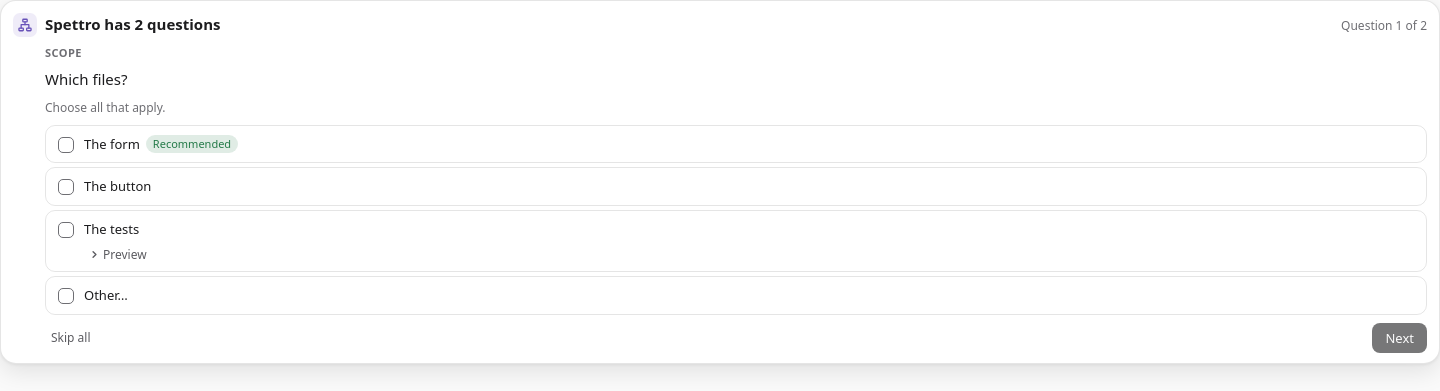
Test: the question card › shows one question at a time with a step indicator
Check: the text "Question 1 of 2" is shown, box [1341,16,1427,34]
Check: the text "Which files?" is shown, box [45,69,128,89]
What coordinates should you click on to do the following:
click the button with test id "question-submit"
I would click on:
 (1400, 338)
Its box is [1372,323,1427,353].
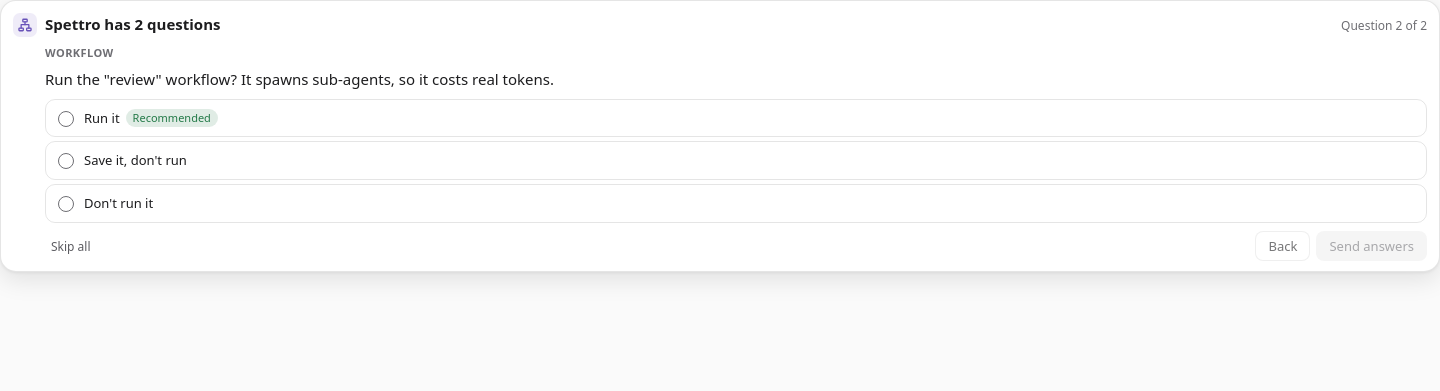
Check: the text "Question 2 of 2" is shown, box [1341,16,1427,34]
